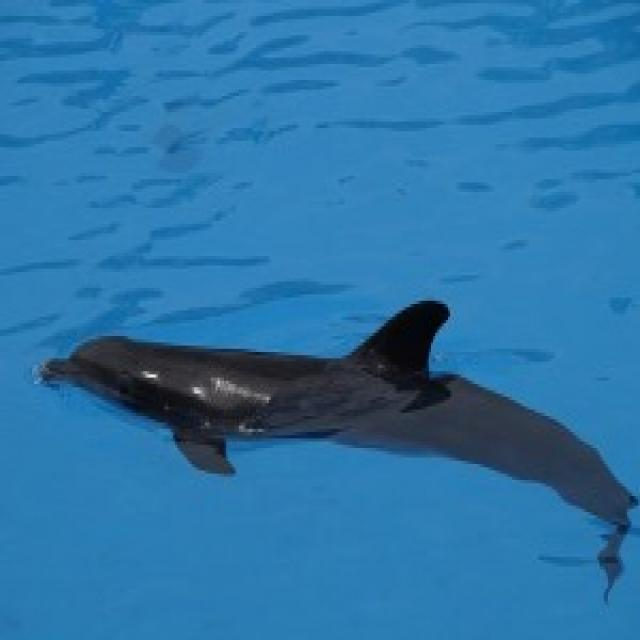Dolphin: (31, 295, 640, 585)
